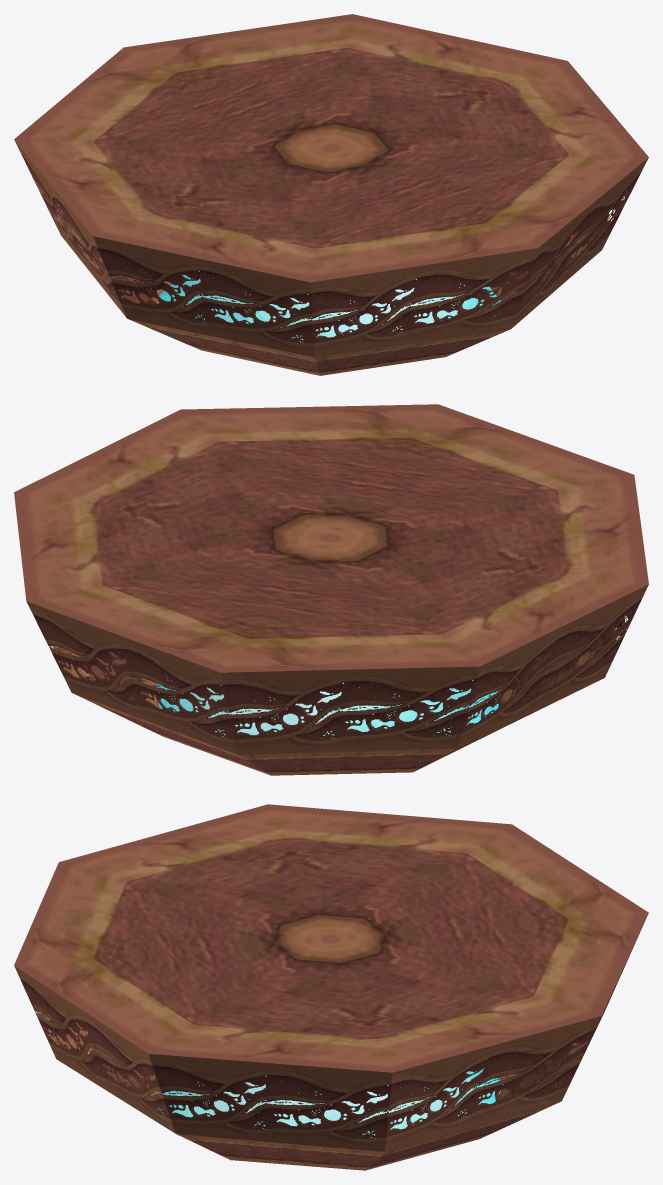
File: plat-lod1.glb
The picture shows the model from 3 angles, top to bottom: view 1: azimuth 30°, elevation 25°; view 2: azimuth 150°, elevation 25°; view 3: azimuth 270°, elevation 25°; orthographic projection. The views are drawn at different scales.
Visible parts, largest first — view 1: plat-lod1; view 2: plat-lod1; view 3: plat-lod1.
Part boxes in pixels (bbox=[...]): plat-lod1: bbox=[14, 14, 648, 375]; plat-lod1: bbox=[14, 404, 648, 775]; plat-lod1: bbox=[14, 804, 648, 1170].
Bounding box in the file's own units: 4.79 × 1.32 × 4.79.
Materials: 3 (3 with a texture image).
